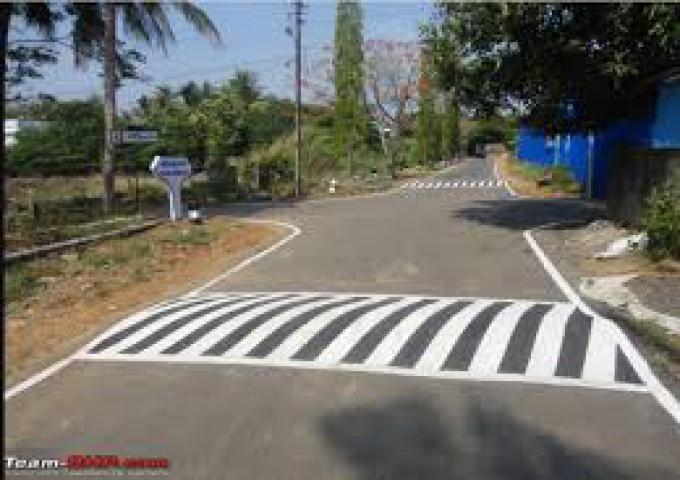speedbreaker: (70, 286, 665, 392)
